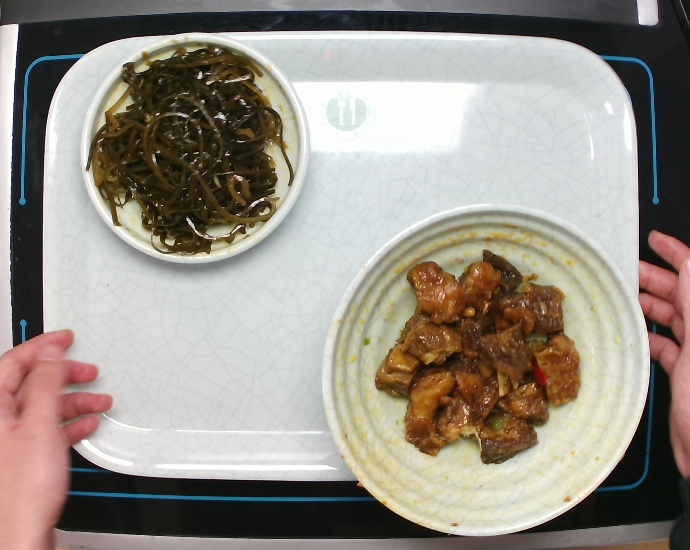JYsf-Da_Tang_Wan: (319, 199, 652, 538)
JYsf-Xiao_Yuan_Pan: (77, 30, 310, 265)
